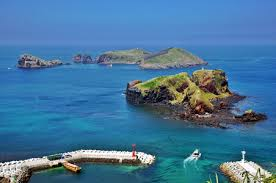mountain: (123, 69, 259, 124), (65, 47, 208, 66)
sea: (5, 38, 270, 181)
sky: (2, 1, 275, 46)
